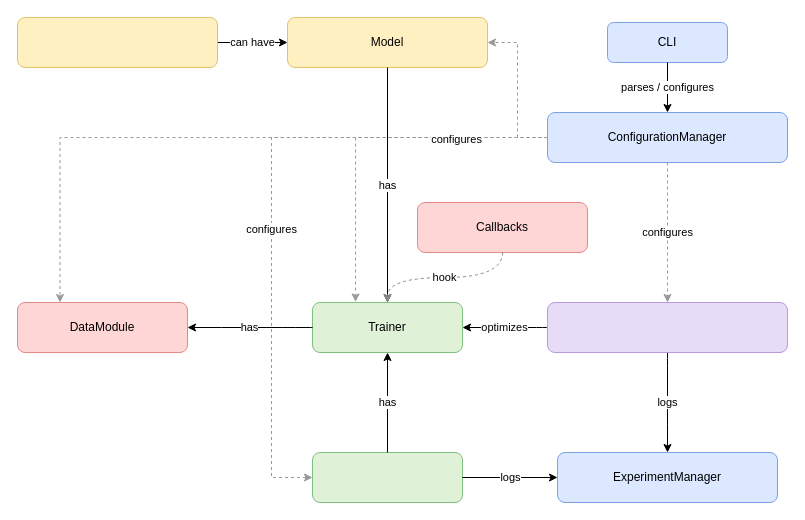
Some shapes in this 805 by 520 pixel diagram are drawn without their labels. The box of each missing label's shape, as (x1, y1, x2, y2) in pixels:
HyperparameterOptimizer: (546, 302, 788, 352)
PEFT: (16, 16, 218, 68)
Predictor: (312, 452, 462, 502)
